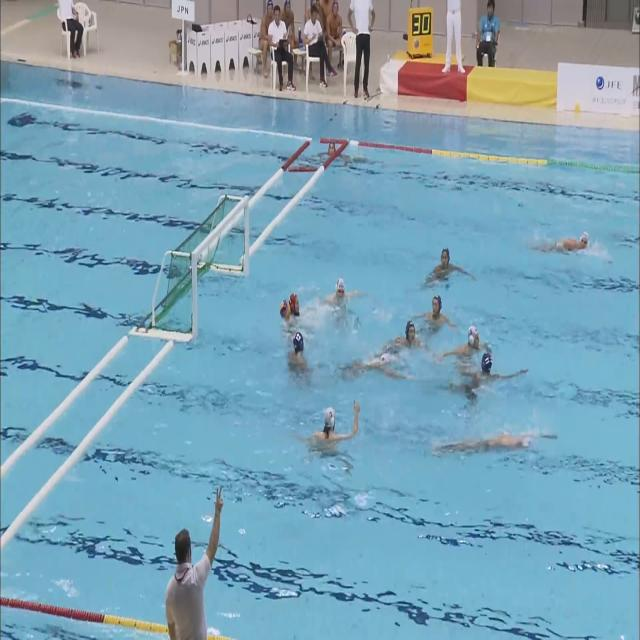ball: (280, 300, 290, 319)
